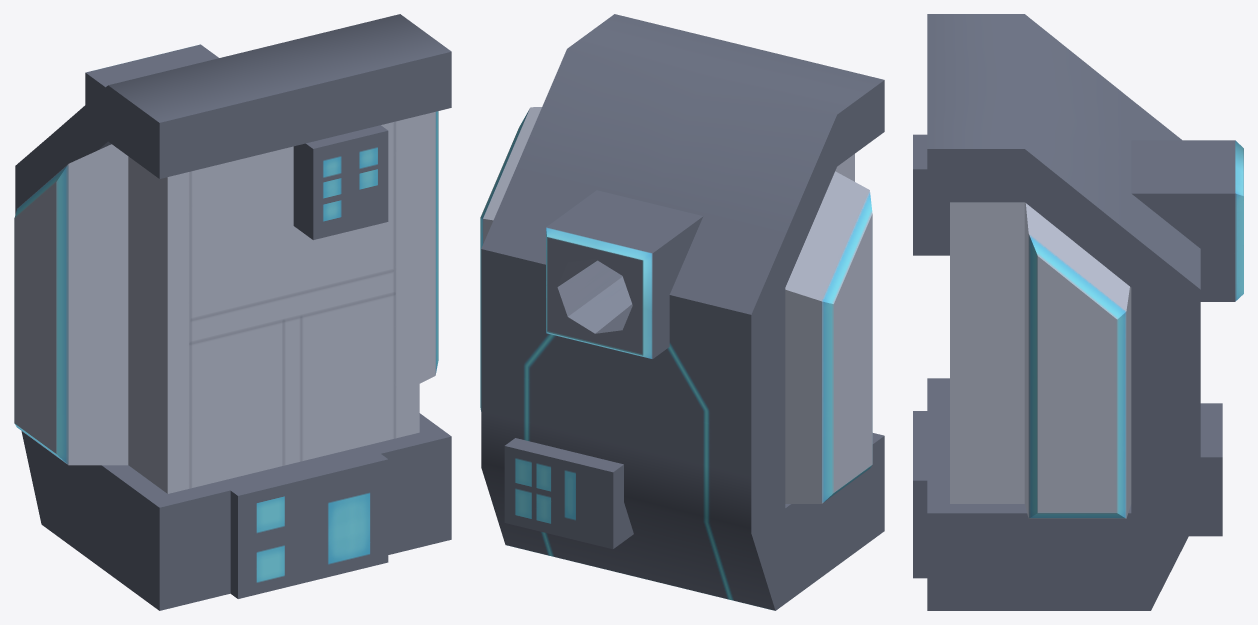
The model's file is ammeter_secondary.fbx.
The picture shows the model from 3 angles, left to right: view 1: azimuth 30°, elevation 25°; view 2: azimuth 150°, elevation 25°; view 3: azimuth 270°, elevation 25°; orthographic projection. The views are drawn at different scales.
Parts seen in each view (by area): view 1: pCube1; view 2: pCube1, pCube2; view 3: pCube1, pCube2.
Part boxes in pixels (bbox=[...]): pCube1: bbox=[14, 14, 451, 610]; pCube1: bbox=[480, 14, 884, 610]; pCube2: bbox=[504, 438, 633, 549]; pCube1: bbox=[913, 14, 1243, 610]; pCube2: bbox=[1189, 403, 1222, 536].
Size of the model in its own units: 0.7276 by 0.8875 by 0.5757.
